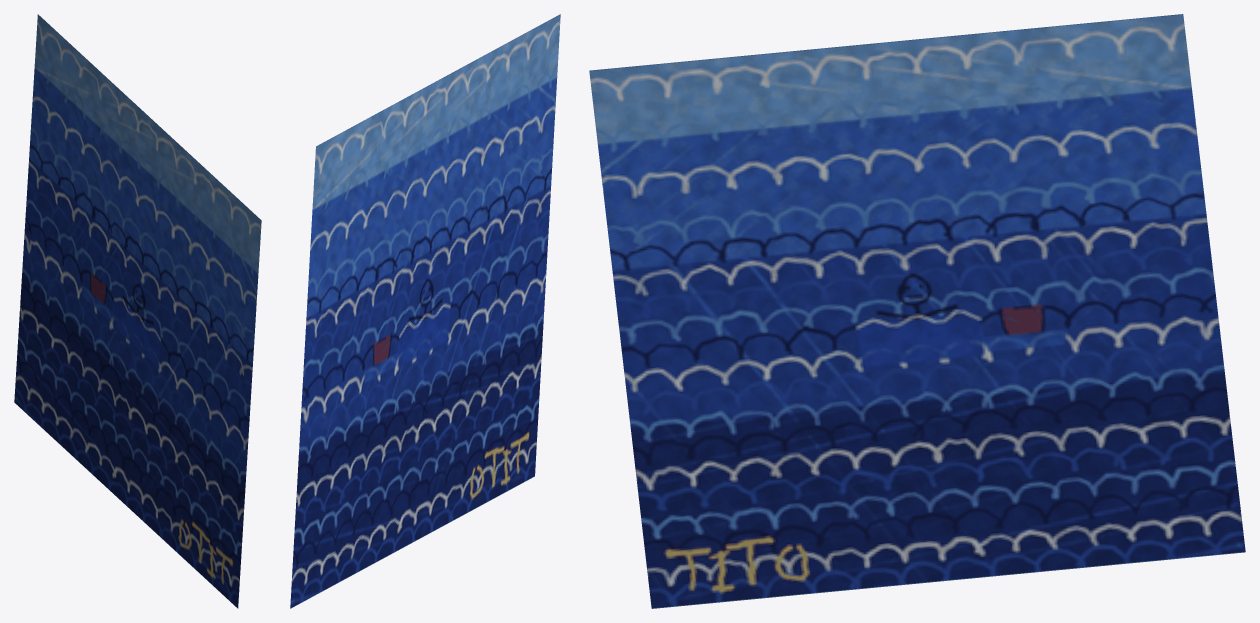
The model's file is painel_solto.glb.
3 renders of one model, left to right at view 1: azimuth 30°, elevation 25°; view 2: azimuth 150°, elevation 25°; view 3: azimuth 270°, elevation 25°, orthographic. The views are drawn at different scales.
Parts seen in each view (by area): view 1: Folha_desenho_5_0; view 2: Folha_desenho_5_0; view 3: Folha_desenho_5_0.
Part boxes in pixels (bbox=[...]): Folha_desenho_5_0: bbox=[14, 14, 261, 608]; Folha_desenho_5_0: bbox=[290, 14, 560, 608]; Folha_desenho_5_0: bbox=[589, 14, 1245, 608].
Bounding box in the file's own units: 7.2e-09 × 1.43 × 1.43.
Materials: 1 (1 with a texture image).
